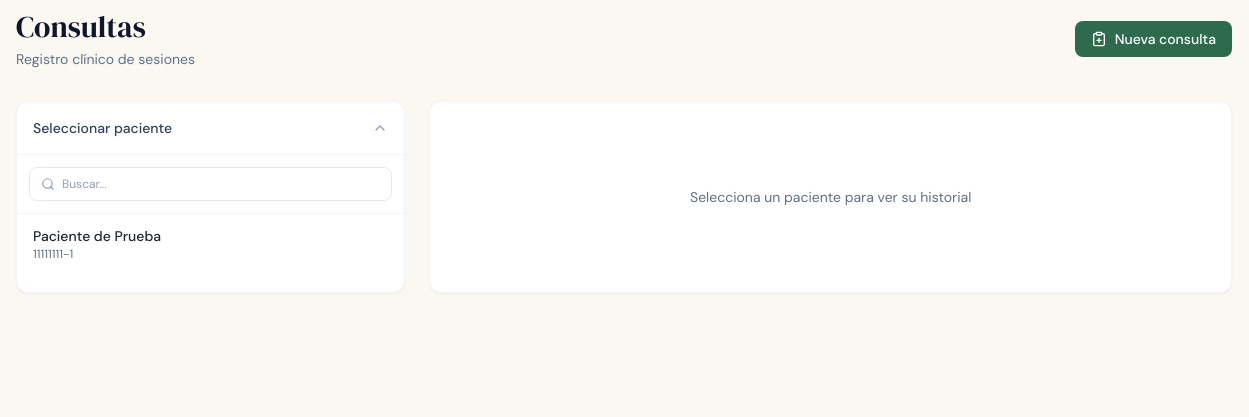
it: ConsultationsPage › si un refetch falla con consultas en caché avisa pero mantiene el historial visible
The image size is (1249, 417).
Click the text "Paciente de Prueba" at (97, 236), box top-left (33, 227), bottom-right (161, 245)
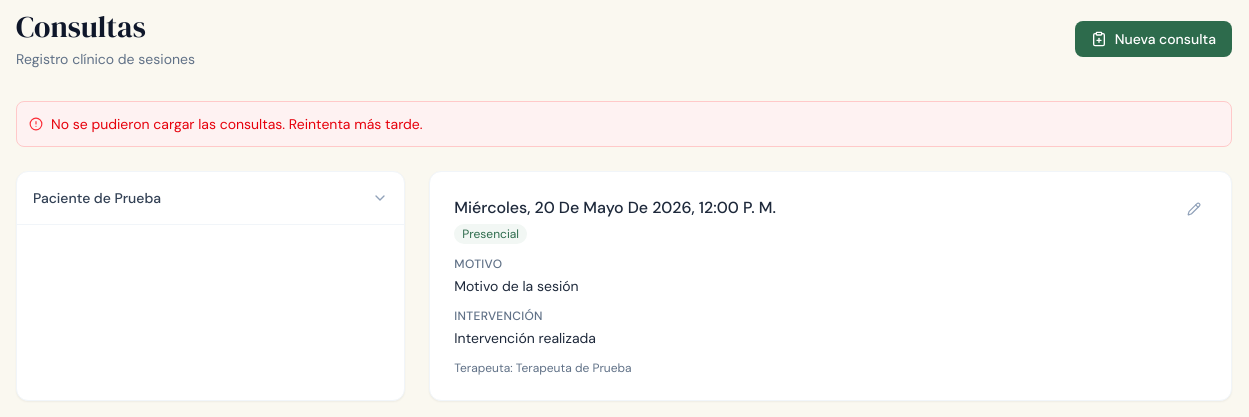
Now the text "No se pudieron cargar las consultas. Reintenta más tarde." is shown, box top-left (51, 114), bottom-right (423, 134)
Now the text "Motivo de la sesión" is shown, box top-left (454, 277), bottom-right (579, 295)
Now the text "Intervención realizada" is shown, box top-left (454, 329), bottom-right (596, 347)
